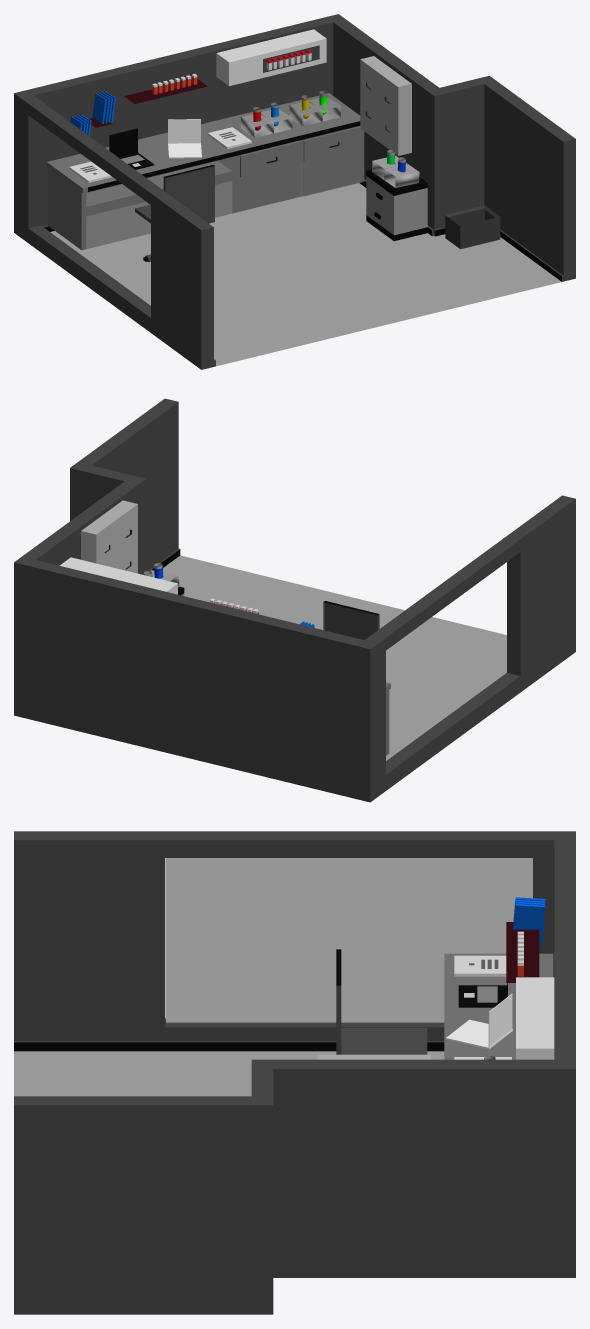
Rendered from Labo.gltf.
3 views of the same model, one above another, from view 1: azimuth 30°, elevation 25°; view 2: azimuth 150°, elevation 25°; view 3: azimuth 270°, elevation 25° (orthographic). The views are drawn at different scales.
Visible parts, largest first — view 1: Walls, Flour, Desk, Plane.002, Cube, Desk_2, Plane.013, Plane.001, Desk.001, Plane.006, Flasks, Flasks.001 (+9 smaller); view 2: Walls, Flour, Plane.002, Plane.013, Cube; view 3: Walls, Window, Flour, Desk, Trim, Cube, Plane.013, Plane.006, Plane.004, Book, Plane.005, Plane.003 (+1 smaller).
Part boxes in pixels (x1=…): Walls: x1=14, y1=14, x2=575, y2=369; Flour: x1=50, y1=183, x2=561, y2=366; Desk: x1=46, y1=93, x2=364, y2=250; Plane.002: x1=360, y1=56, x2=411, y2=149; Cube: x1=216, y1=29, x2=326, y2=86; Desk_2: x1=366, y1=176, x2=427, y2=235; Plane.013: x1=135, y1=166, x2=214, y2=262; Plane.001: x1=445, y1=205, x2=500, y2=249; Desk.001: x1=88, y1=121, x2=360, y2=191; Plane.006: x1=168, y1=119, x2=201, y2=158; Flasks: x1=288, y1=91, x2=340, y2=126; Flasks.001: x1=240, y1=102, x2=292, y2=138; Walls: x1=14, y1=398, x2=575, y2=802; Flour: x1=163, y1=555, x2=506, y2=760; Plane.002: x1=81, y1=500, x2=137, y2=573; Plane.013: x1=323, y1=602, x2=379, y2=639; Cube: x1=59, y1=557, x2=177, y2=594; Walls: x1=14, y1=831, x2=575, y2=1314; Window: x1=166, y1=858, x2=532, y2=1022; Flour: x1=14, y1=1051, x2=444, y2=1096; Desk: x1=444, y1=953, x2=553, y2=1059; Trim: x1=14, y1=1042, x2=444, y2=1051; Cube: x1=516, y1=977, x2=554, y2=1059; Plane.013: x1=336, y1=985, x2=427, y2=1054; Plane.006: x1=446, y1=993, x2=512, y2=1049; Plane.004: x1=506, y1=922, x2=539, y2=982; Book: x1=454, y1=955, x2=506, y2=976; Plane.005: x1=513, y1=899, x2=545, y2=945; Plane.003: x1=458, y1=983, x2=507, y2=1007.
Bounding box in the file's own units: 2 × 0.7158 × 1.73.
